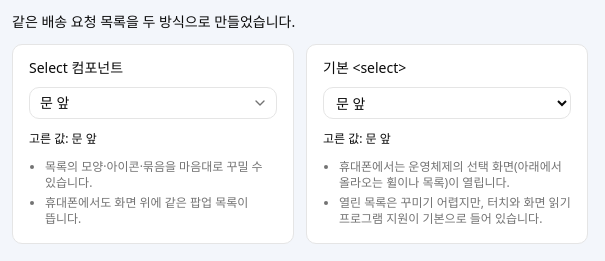
native comparison: both pick from the same list
Select "경비실" in the dropdown labelled "기본 <select>" at (447,103), box 323,87 -> 571,119
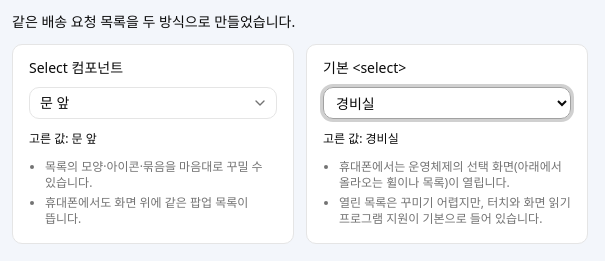
Expected: the text "고른 값: 경비실" is shown, 323,130 -> 399,147
Click the dropdown named "Select 컴포넌트" at (153,103), box 29,87 -> 277,119
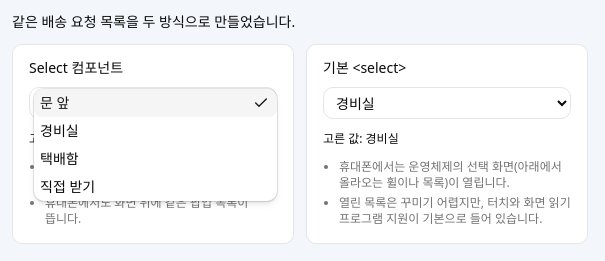
Click the option "택배함" at (59,158), box 40,149 -> 79,168
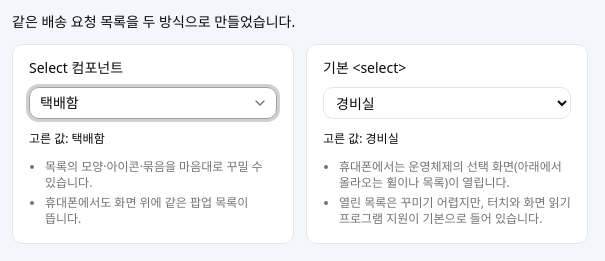
Expected: the text "고른 값: 택배함" is shown, 29,130 -> 105,147
